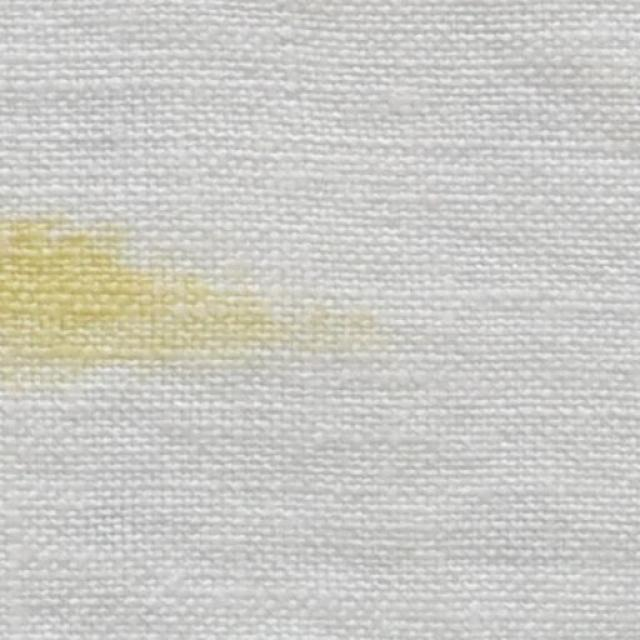Stain: (0, 218, 379, 387)
